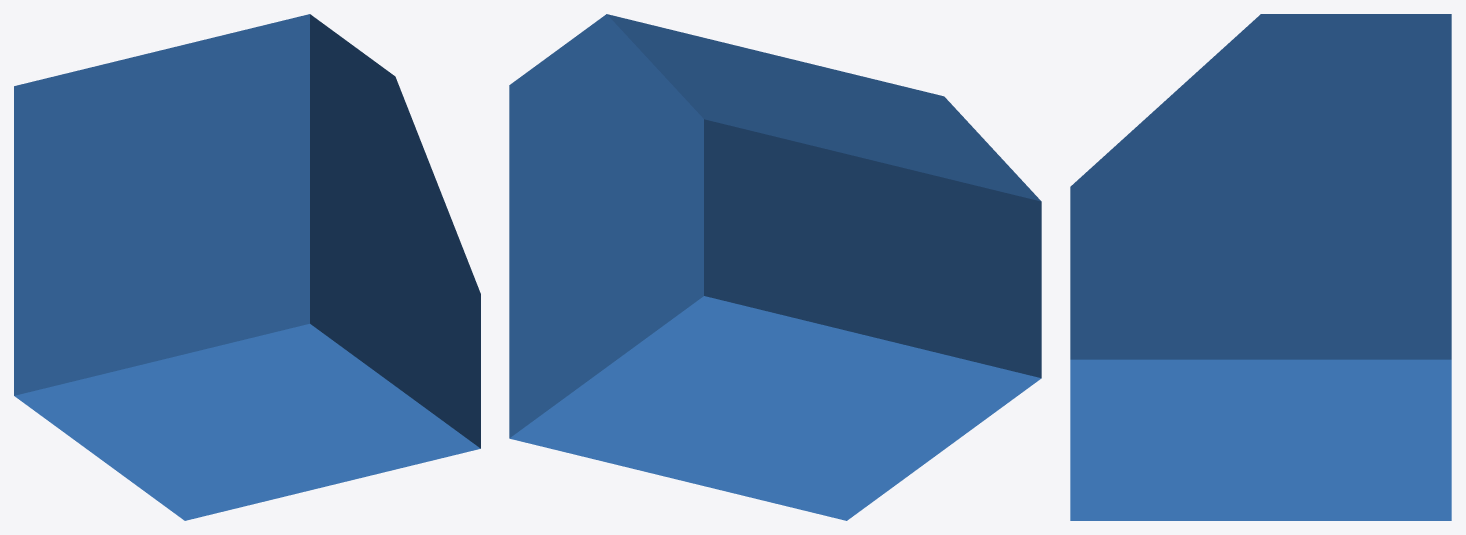
Rendered from r3c6_border_blue.gltf.
3 renders of one model, left to right at view 1: azimuth 30°, elevation 25°; view 2: azimuth 150°, elevation 25°; view 3: azimuth 270°, elevation 25°, orthographic. The views are drawn at different scales.
Visible parts, largest first — view 1: r3c6_border_blue; view 2: r3c6_border_blue; view 3: r3c6_border_blue.
Boxes of the visible parts, x1,y1,x2,y2 form: r3c6_border_blue: (14, 14, 480, 520); r3c6_border_blue: (509, 14, 1041, 520); r3c6_border_blue: (1070, 14, 1451, 520).
Bounding box in the file's own units: 2.1 × 2.1 × 2.1.
1 material, 1 textured.
